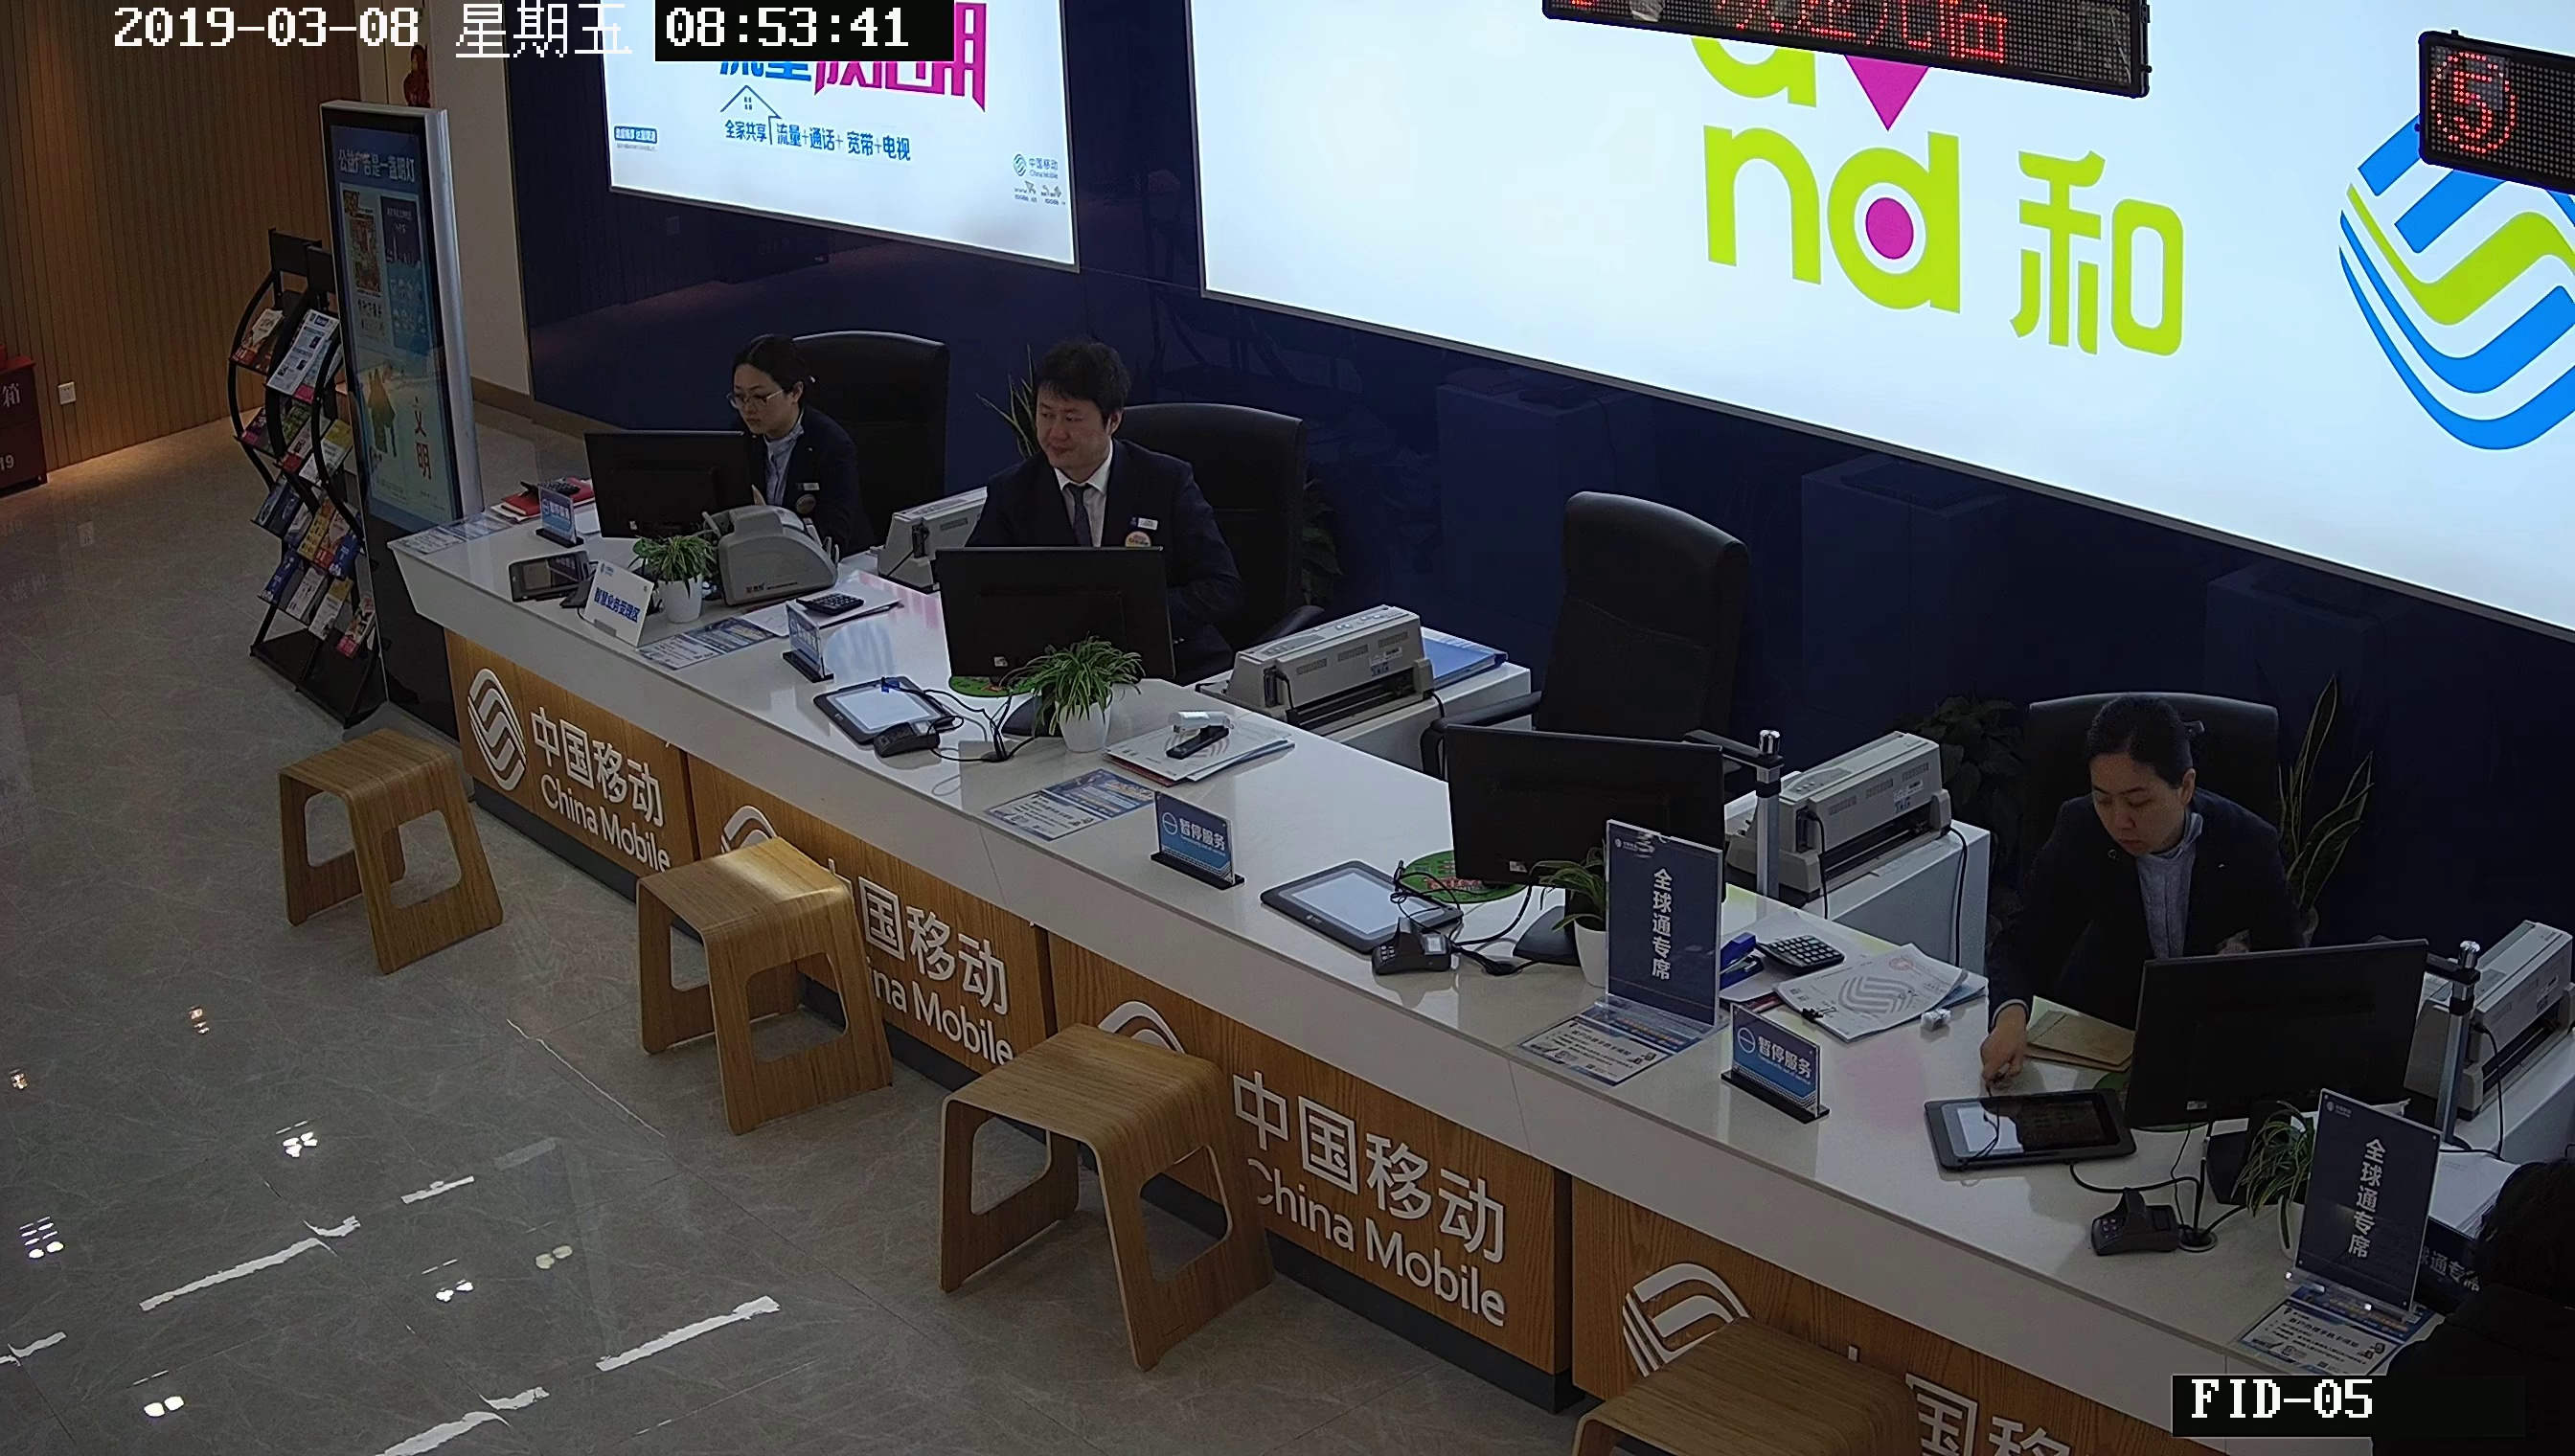head: (2082, 694, 2198, 855), (2466, 1153, 2572, 1313), (1034, 343, 1125, 472), (725, 330, 809, 434)
